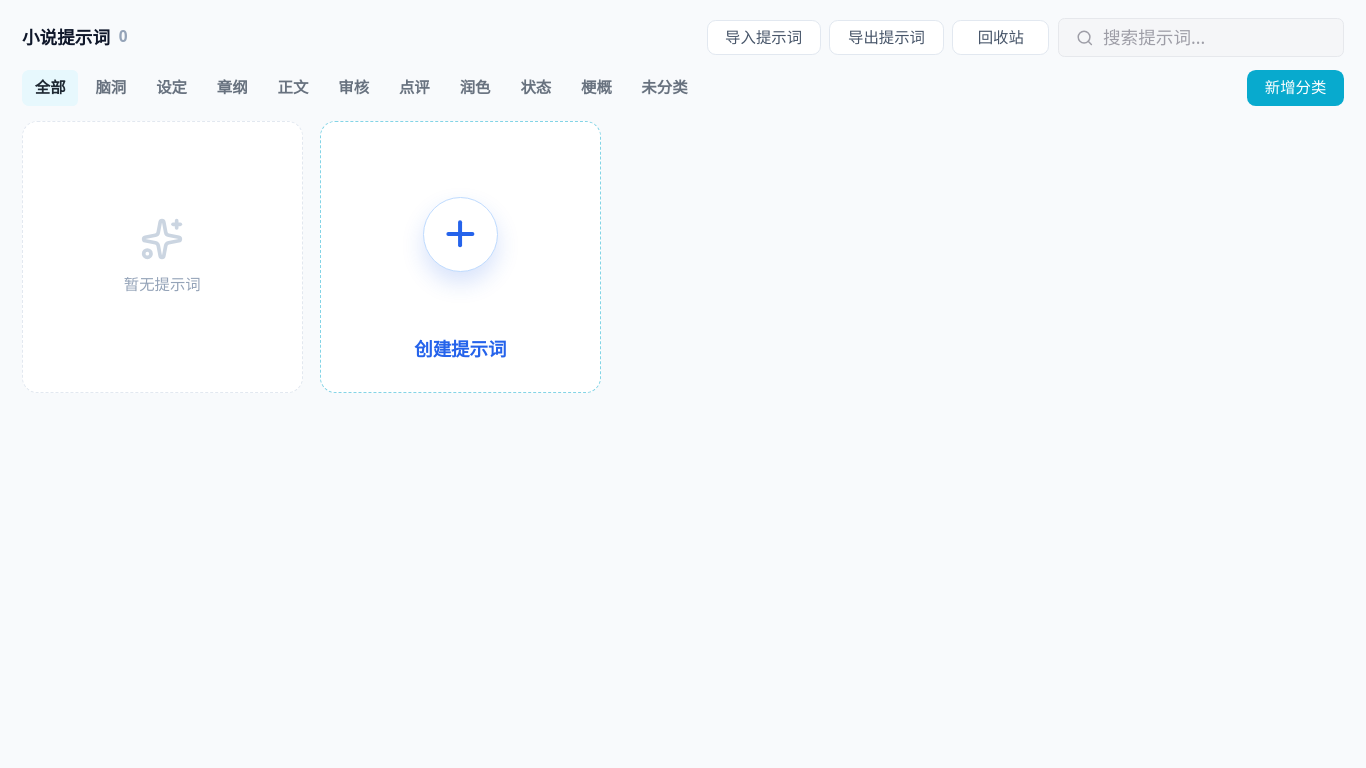
Test: PromptsPage modal layering › adds a category after the user enters a name and confirms
The width and height of the screenshot is (1366, 768).
Click the button "新增分类": click(1296, 88) [1247,70,1344,106]
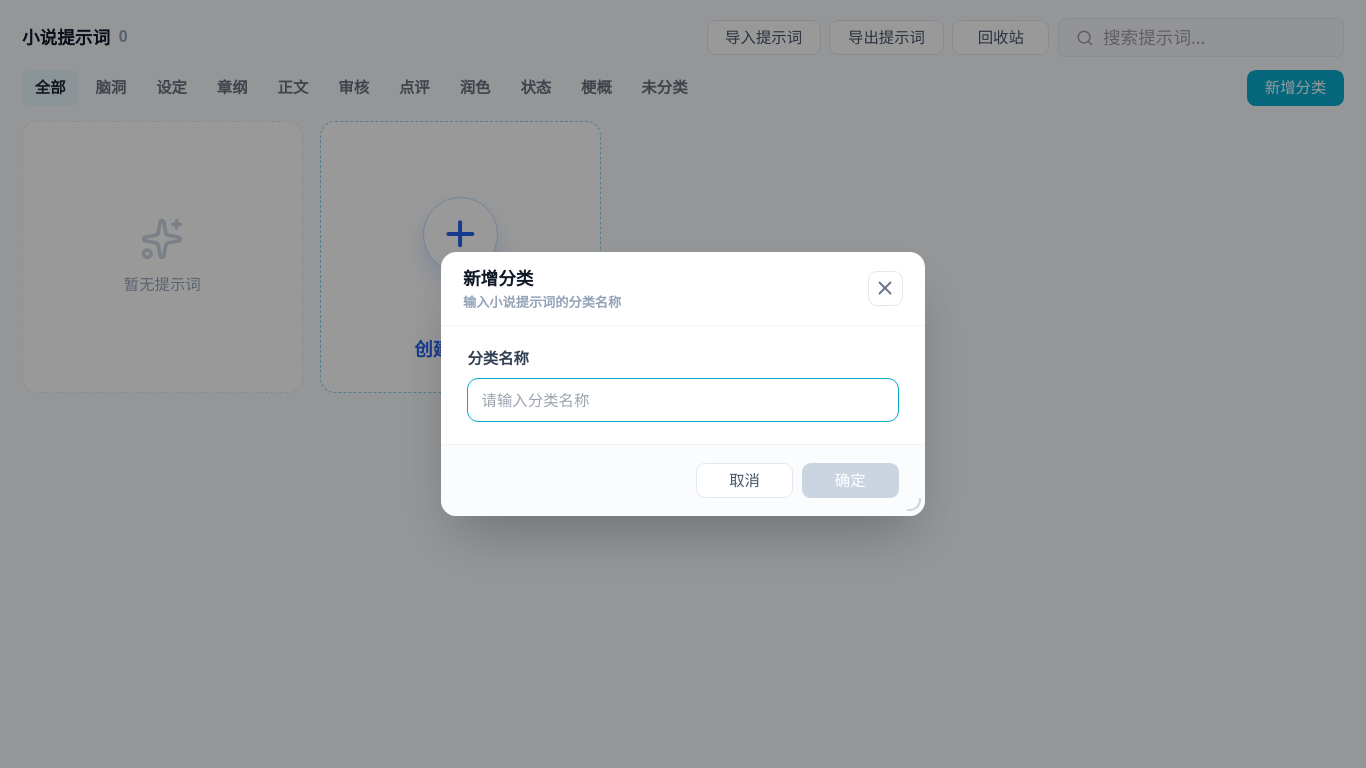
In the field labelled "分类名称": (683, 400) [467,378,899,422], type "自定义分类"
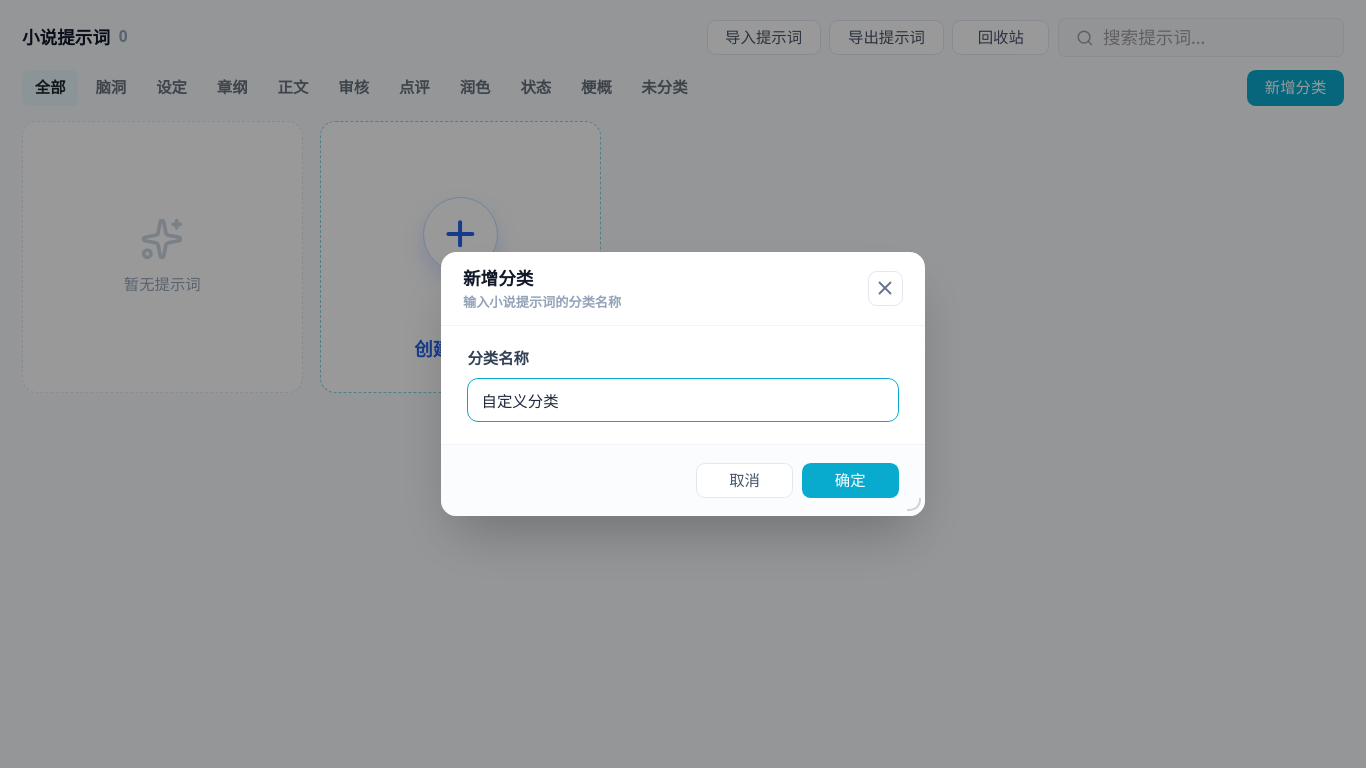
Click the button "确定": click(850, 481) [802,463,899,498]
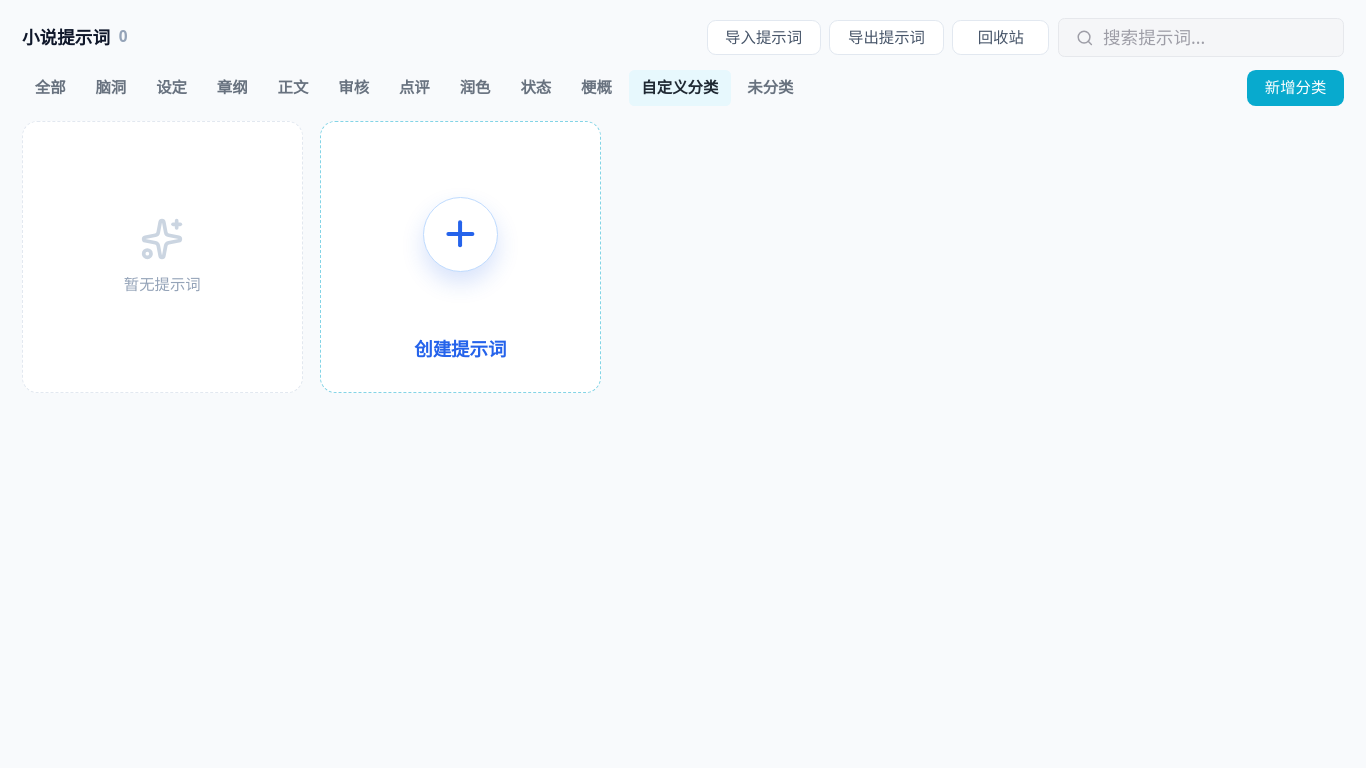
expect the button "自定义分类" is shown: met, box [629,70,731,106]
